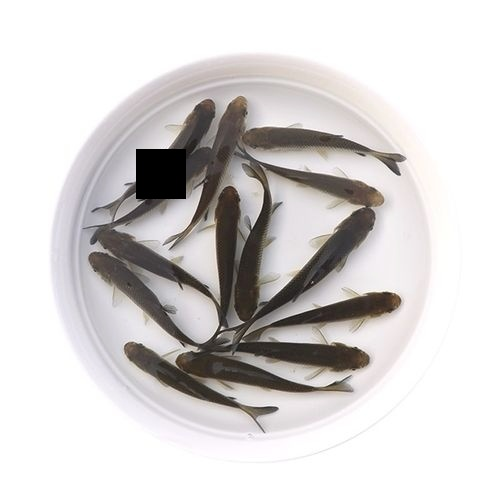fry: (285, 205, 387, 281), (280, 281, 416, 333), (208, 178, 246, 315), (81, 251, 154, 321), (173, 348, 277, 393), (275, 333, 377, 378), (244, 118, 364, 156), (307, 162, 395, 209), (110, 333, 177, 390), (155, 95, 218, 152), (233, 223, 268, 324), (94, 220, 175, 260), (217, 84, 251, 149), (168, 143, 213, 182)
